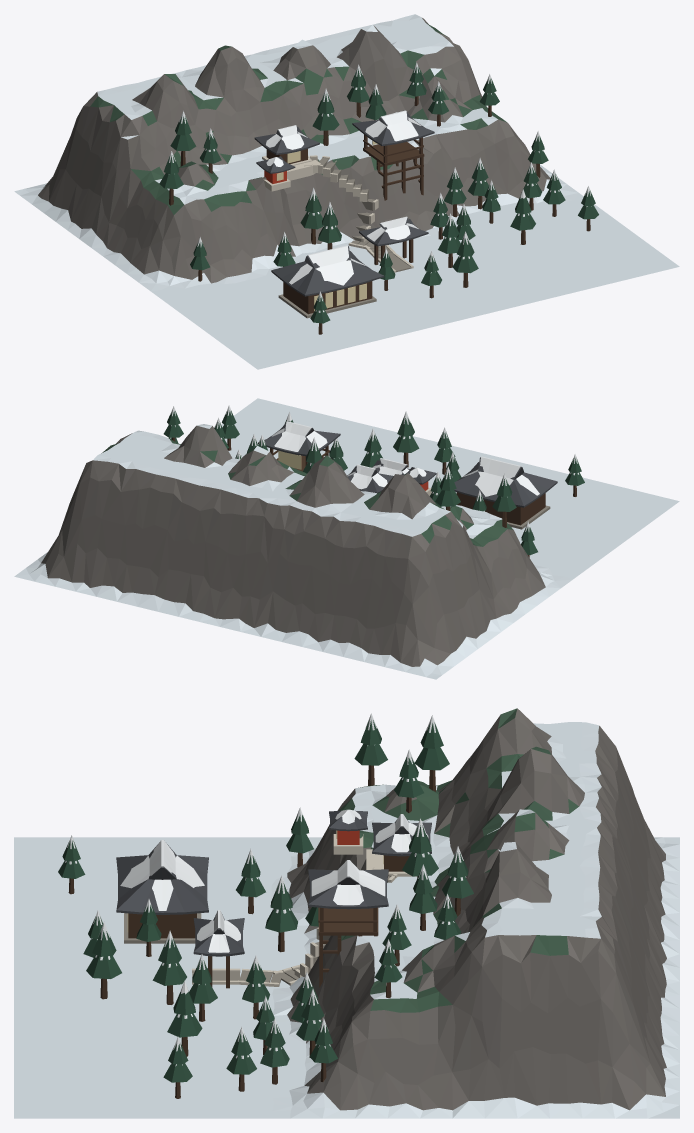
The model's file is yamadera.glb.
3 views of the same model, one above another, from view 1: azimuth 30°, elevation 25°; view 2: azimuth 150°, elevation 25°; view 3: azimuth 270°, elevation 25° (orthographic). The views are drawn at different scales.
Parts seen in each view (by area): view 1: yamadera_rock, yamadera_terrain, yamadera_fir, yamadera_forest, yamadera_snow, yamadera_wood, yamadera_roof, yamadera_pale, yamadera_stone, glow_doors; view 2: yamadera_rock, yamadera_terrain, yamadera_fir, yamadera_snow, yamadera_roof, yamadera_forest, yamadera_wood; view 3: yamadera_terrain, yamadera_rock, yamadera_fir, yamadera_snow, yamadera_roof, yamadera_forest, yamadera_wood, yamadera_pale, yamadera_stone.
Boxes of the visible parts, bbox=[...] form: yamadera_rock: bbox=[38, 18, 550, 283]; yamadera_terrain: bbox=[14, 14, 679, 369]; yamadera_fir: bbox=[159, 67, 598, 323]; yamadera_forest: bbox=[90, 23, 506, 214]; yamadera_snow: bbox=[167, 62, 591, 312]; yamadera_wood: bbox=[169, 96, 590, 334]; yamadera_roof: bbox=[254, 111, 434, 296]; yamadera_pale: bbox=[262, 155, 413, 272]; yamadera_stone: bbox=[278, 157, 411, 318]; glow_doors: bbox=[276, 140, 377, 311]; yamadera_rock: bbox=[41, 425, 545, 666]; yamadera_terrain: bbox=[14, 398, 679, 679]; yamadera_fir: bbox=[163, 410, 584, 555]; yamadera_snow: bbox=[170, 405, 579, 531]; yamadera_roof: bbox=[258, 421, 557, 507]; yamadera_forest: bbox=[101, 438, 513, 546]; yamadera_wood: bbox=[172, 437, 576, 557]; yamadera_terrain: bbox=[14, 722, 679, 1118]; yamadera_rock: bbox=[287, 708, 666, 1110]; yamadera_fir: bbox=[58, 720, 473, 1082]; yamadera_snow: bbox=[65, 713, 466, 1066]; yamadera_roof: bbox=[116, 810, 431, 956]; yamadera_forest: bbox=[339, 708, 578, 1012]; yamadera_wood: bbox=[68, 765, 460, 1098]; yamadera_pale: bbox=[192, 834, 416, 986]; yamadera_stone: bbox=[124, 875, 392, 984].
Bounding box in the file's own units: 22.4 × 7.73 × 22.4.
